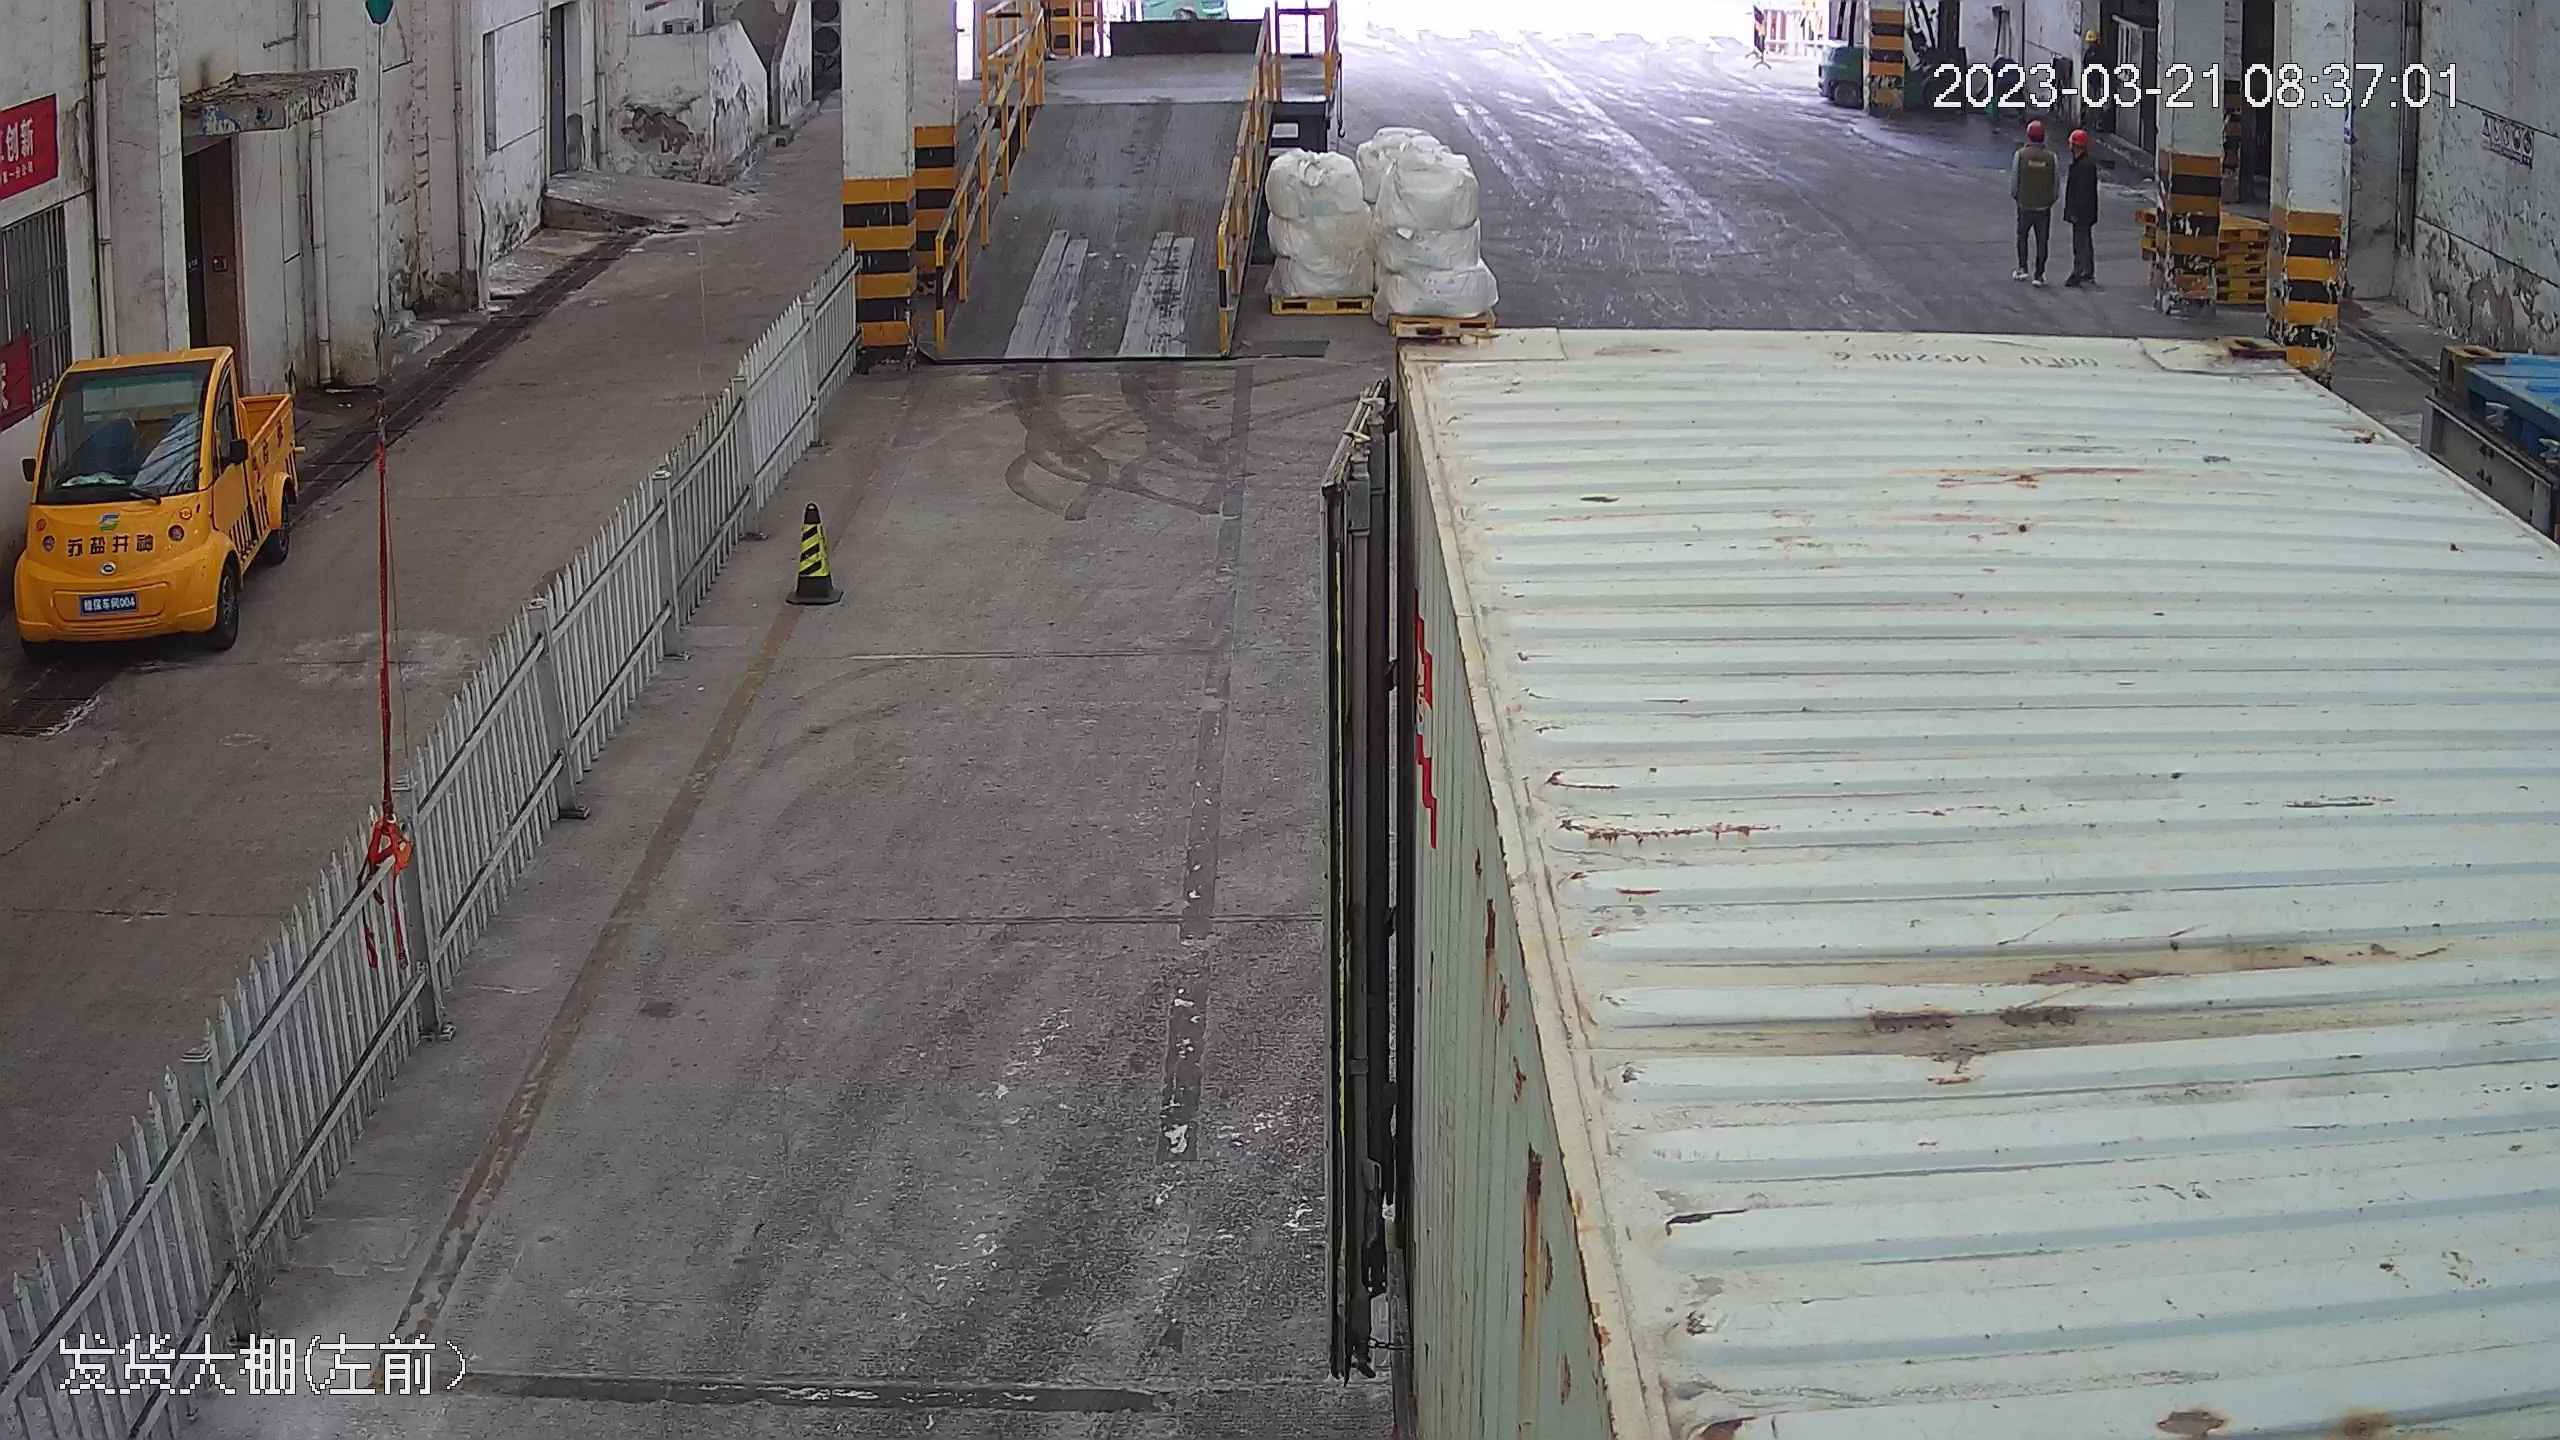head: (2015, 119, 2056, 169), (2063, 128, 2097, 174)
helmet: (2025, 118, 2045, 138), (2069, 128, 2087, 146)
people: (2013, 117, 2059, 284), (2060, 122, 2101, 287)
truck: (1263, 295, 2550, 1440)
